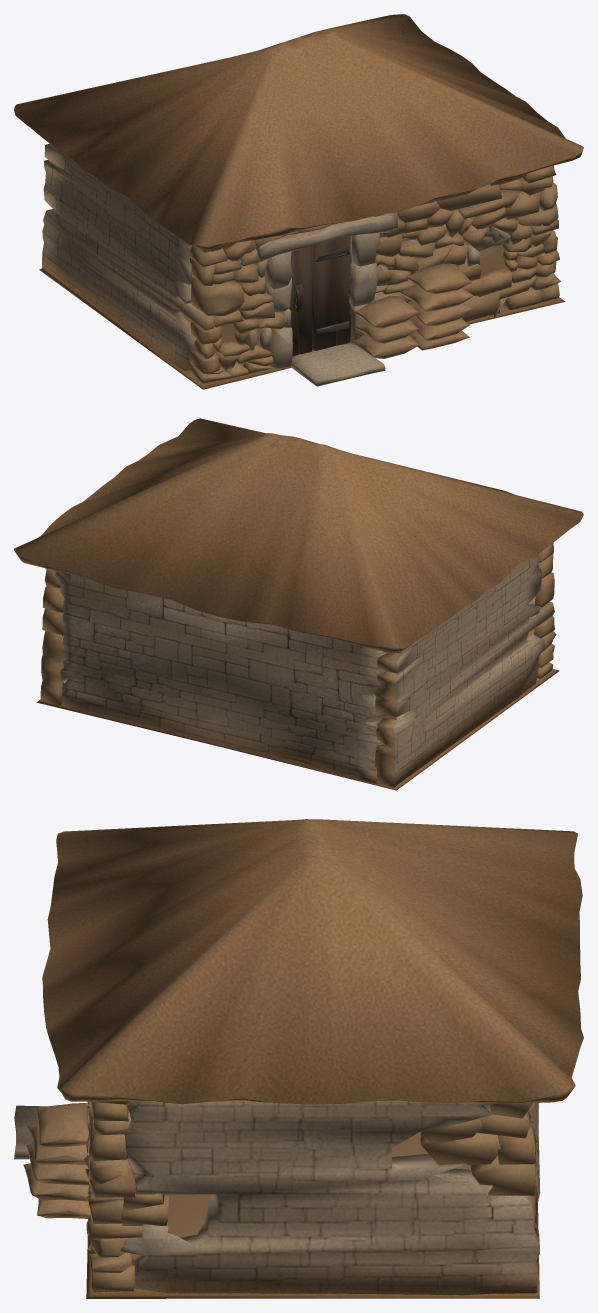
Rendered from ambar.glb.
3 views of the same model, one above another, from view 1: azimuth 30°, elevation 25°; view 2: azimuth 150°, elevation 25°; view 3: azimuth 270°, elevation 25° (orthographic). The views are drawn at different scales.
Size of the model in its own units: 0.957 by 0.5693 by 0.8574.
Materials: 1 (1 with a texture image).
